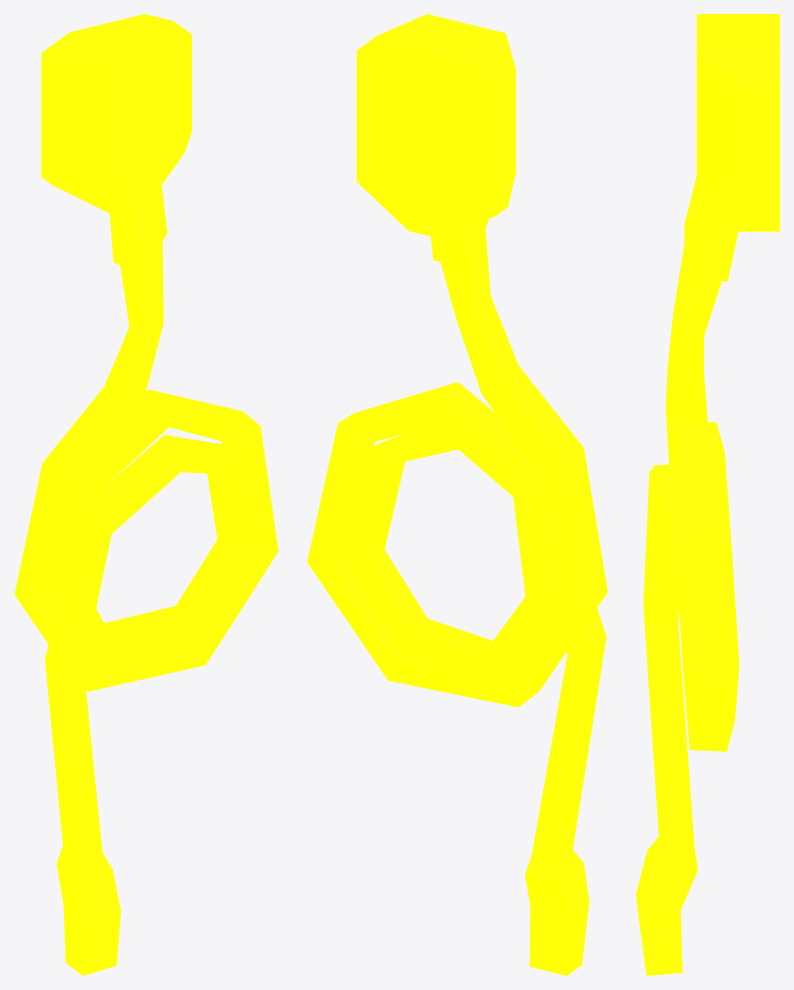
File: wallbox-hose.glb
The picture shows the model from 3 angles, left to right: view 1: azimuth 30°, elevation 25°; view 2: azimuth 150°, elevation 25°; view 3: azimuth 270°, elevation 25°; orthographic projection. The views are drawn at different scales.
Visible parts, largest first — view 1: wallbox-hose; view 2: wallbox-hose; view 3: wallbox-hose.
Boxes of the visible parts, x1,y1,x2,y2 form: wallbox-hose: (14,14,278,975); wallbox-hose: (307,14,607,975); wallbox-hose: (636,14,779,975).
Size of the model in its own units: 0.3921 by 1.29 by 0.1727.
1 material, 1 textured.
